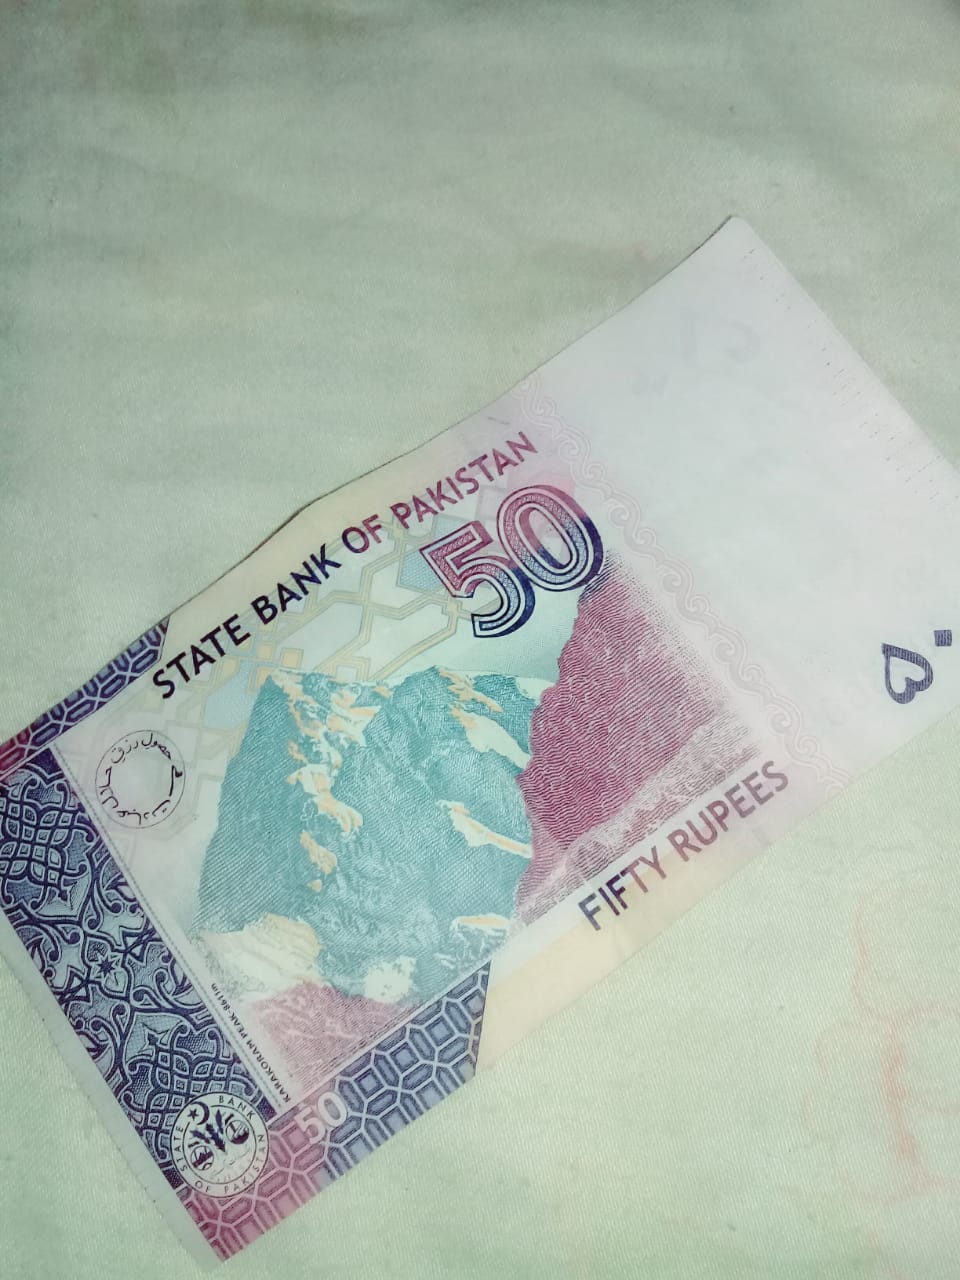50 rupee: (9, 226, 951, 1261)
